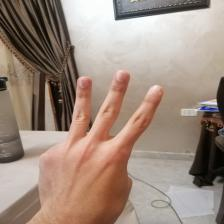five: (41, 70, 166, 212)
